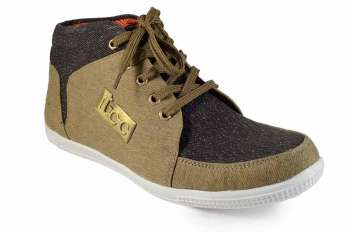Footwear: (40, 5, 330, 212)
